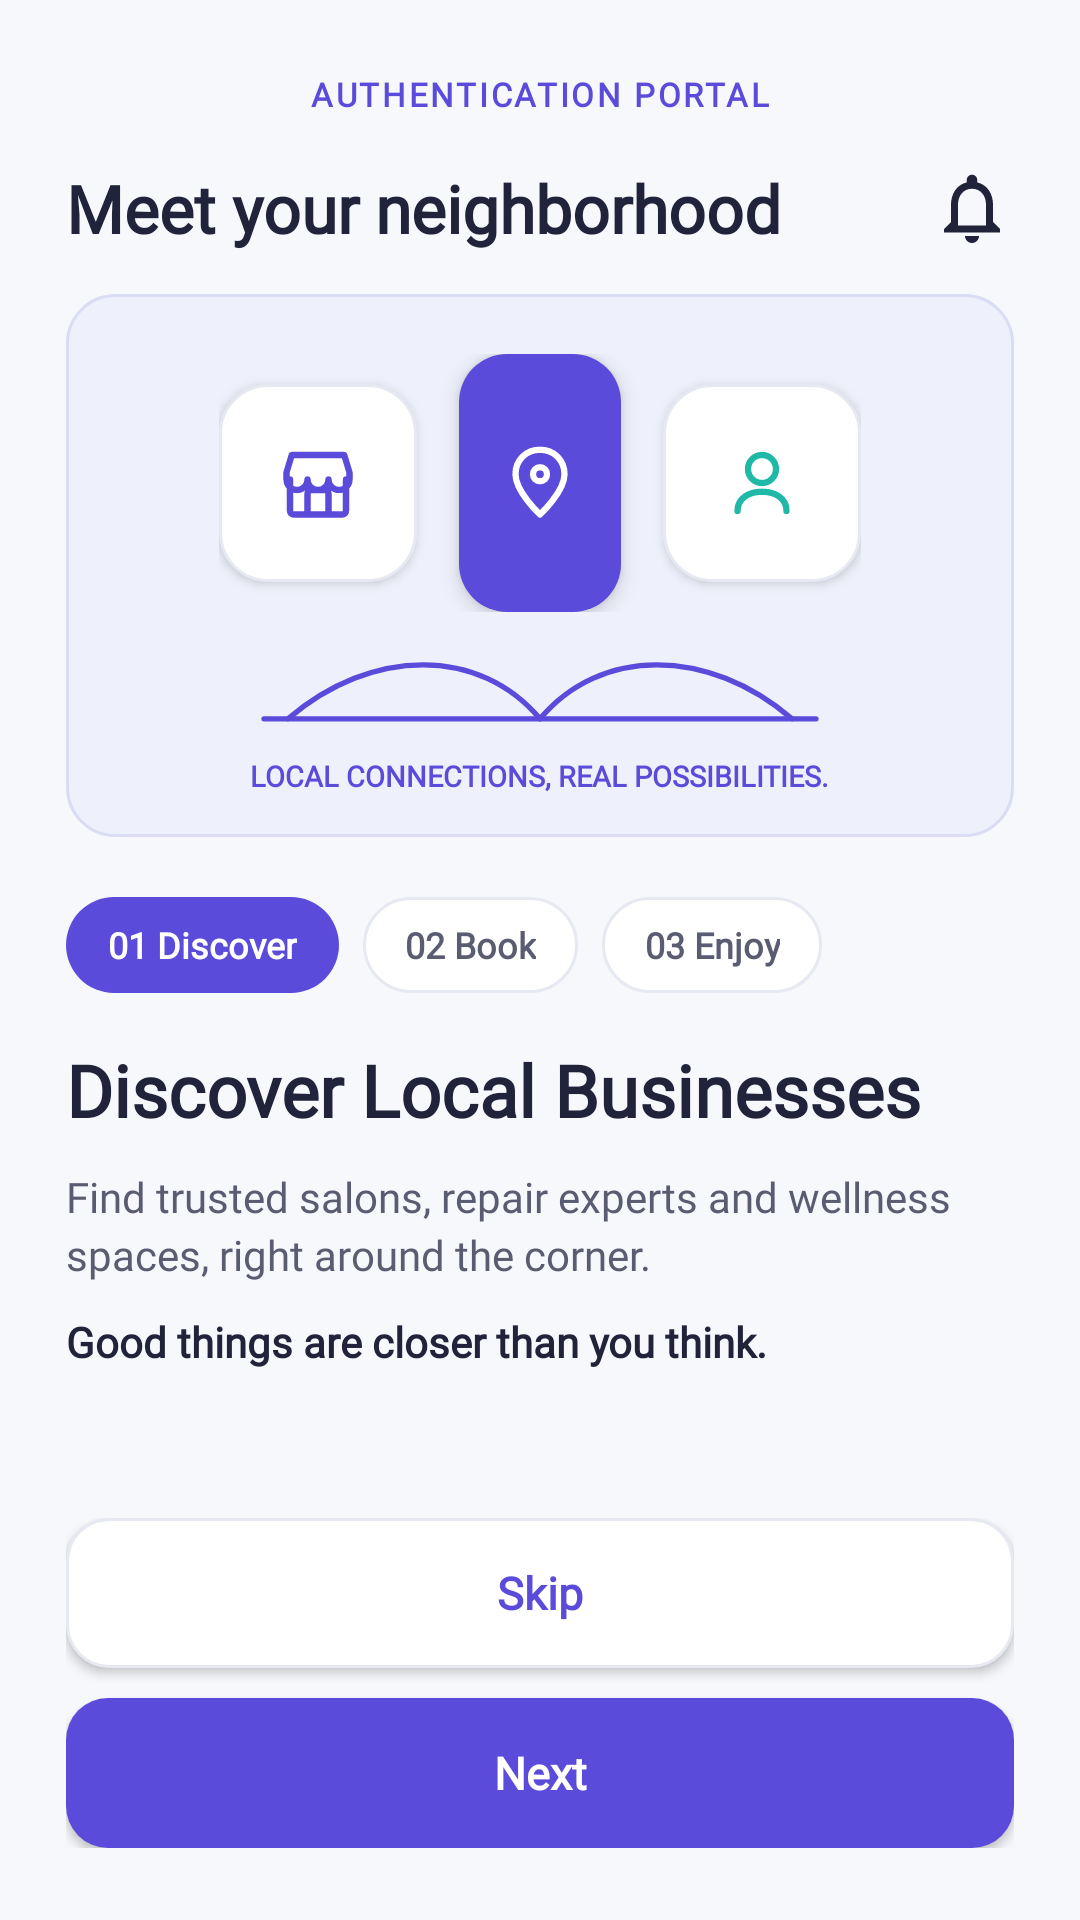

Where icons sit on this 1080x1920 app screen, as (x1, y1, x2, y2):
Location: (512, 446, 568, 518)
Notifications: (944, 174, 1000, 243)
Storefront: (283, 451, 353, 518)
User: (734, 452, 790, 515)
